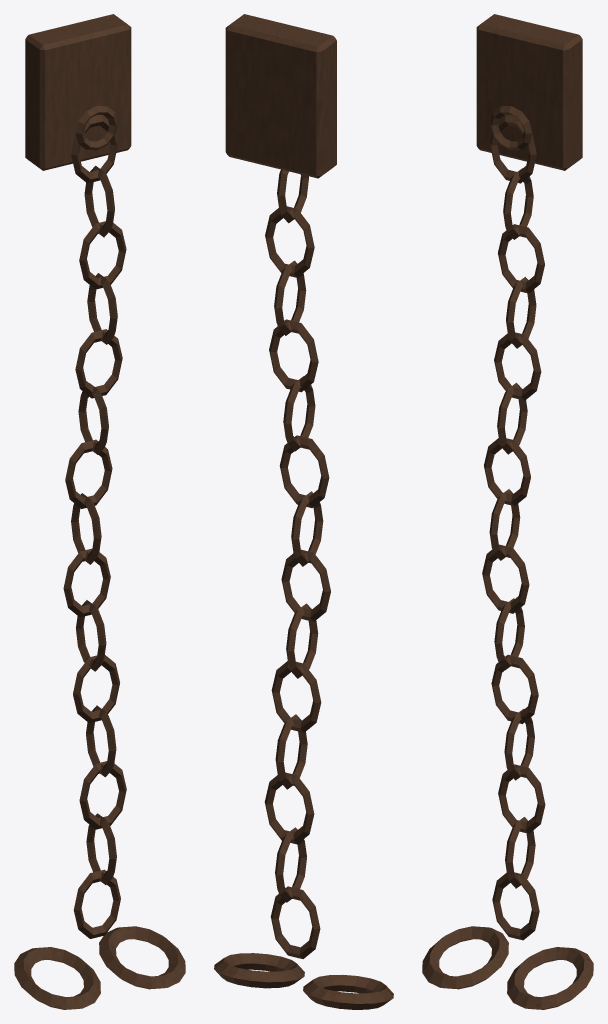
The model's file is chained-manacles.glb.
The picture shows the model from 3 angles, left to right: view 1: azimuth 30°, elevation 25°; view 2: azimuth 150°, elevation 25°; view 3: azimuth 330°, elevation 25°; orthographic projection. The views are drawn at different scales.
Visible parts, largest first — view 1: chained-manacles; view 2: chained-manacles; view 3: chained-manacles.
Part boxes in pixels (x1,y1,x2,y2): chained-manacles: (14, 14, 185, 1009); chained-manacles: (214, 14, 393, 1009); chained-manacles: (422, 14, 593, 1009).
Size of the model in its own units: 0.222 by 1.27 by 0.1373.
1 material, 1 textured.
